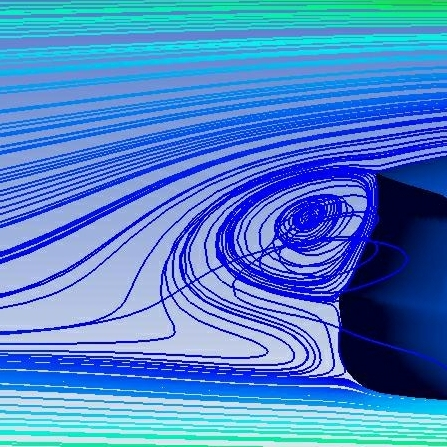vortox: (218, 168, 377, 297)
